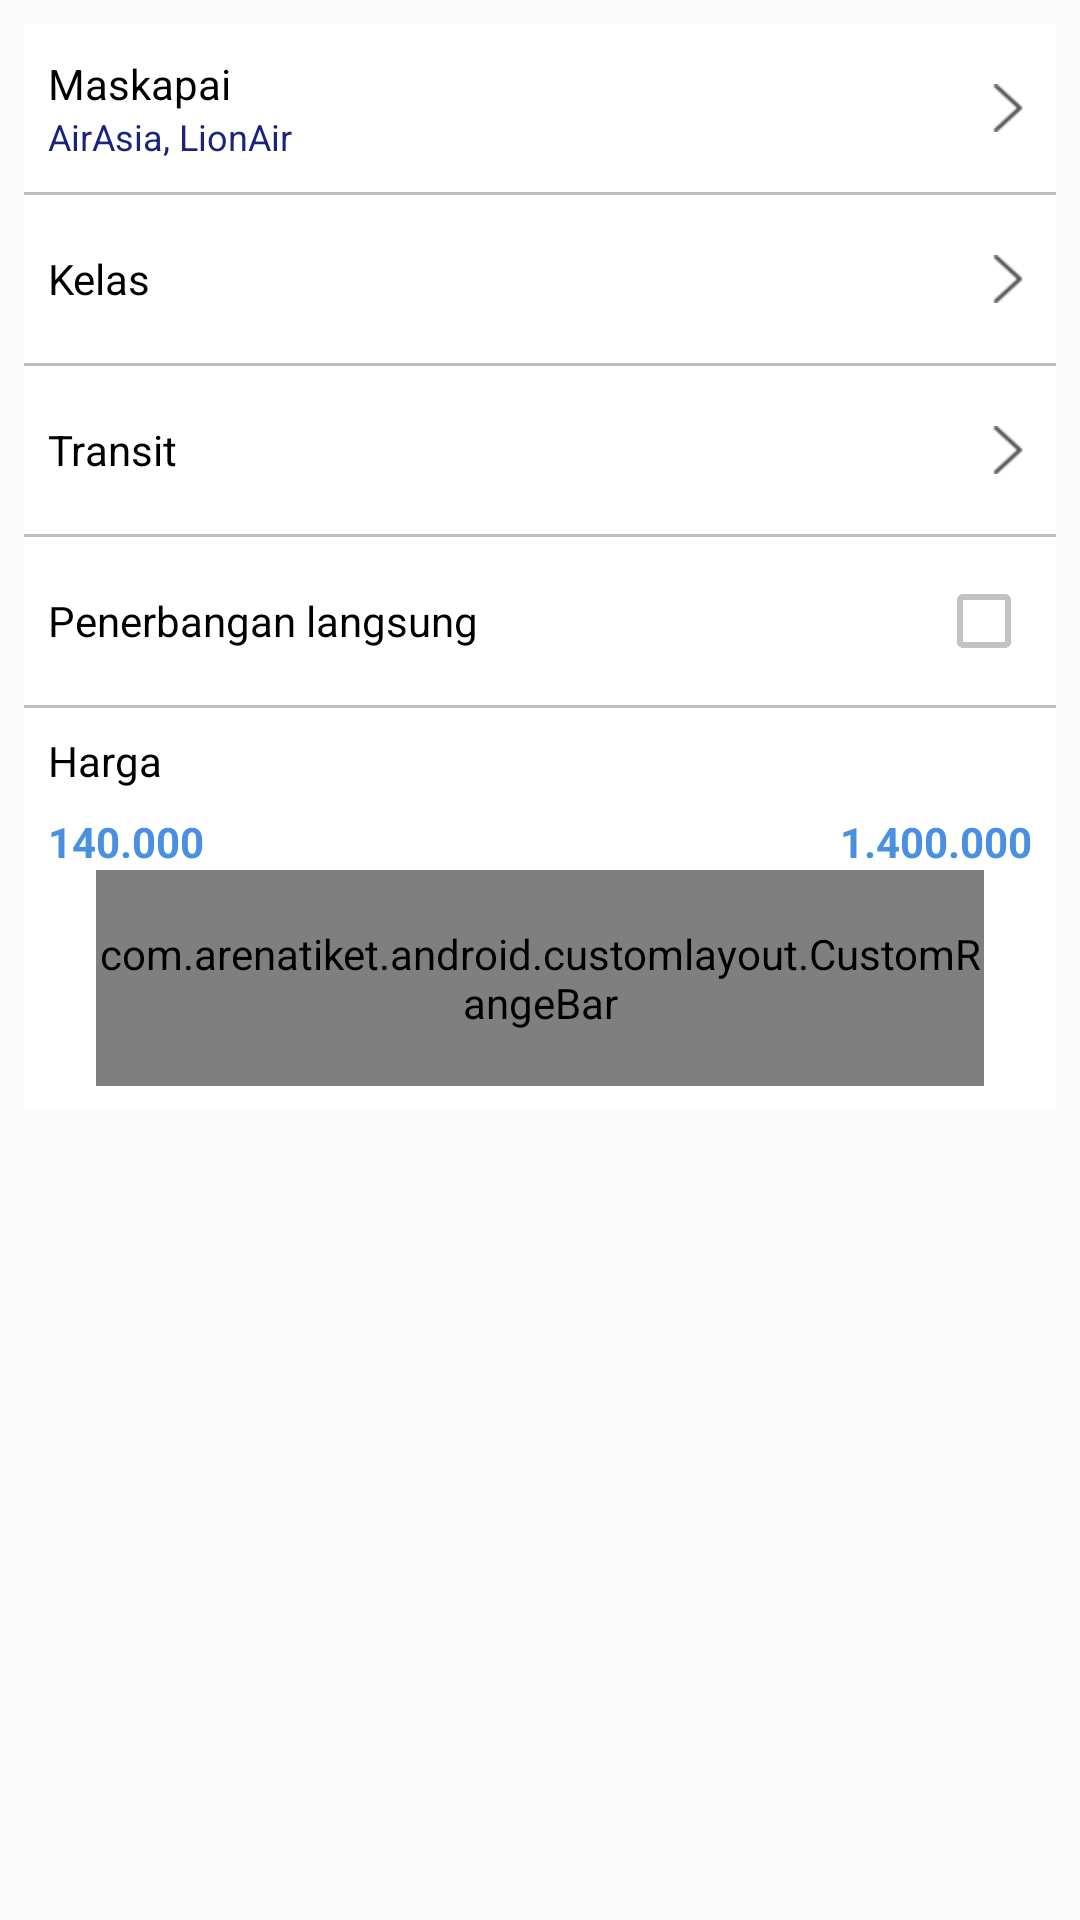

Point at icon controls on the screen. Image size 1080px x 1920px, points as [x,y].
arrow right: [1008,108], [1008,279], [1008,450]
